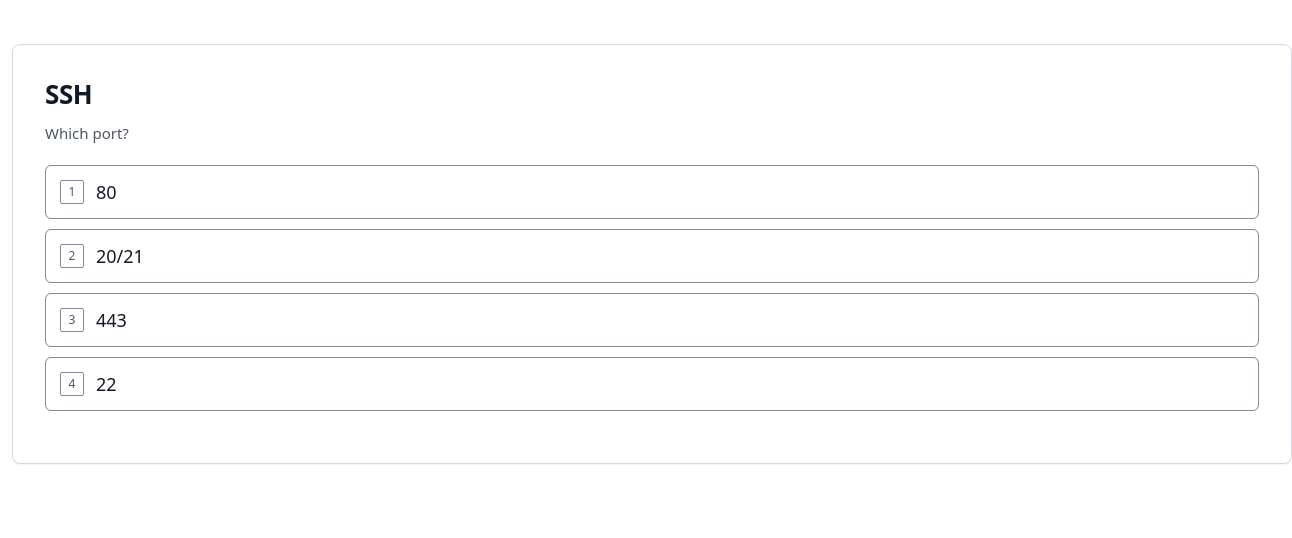
it: RecallPlayer, a choice of answers › waits for Continue after an incorrect answer too, and states the correct answer
The image size is (1292, 538).
Step 1. Click the button "1 80" → (72, 192), box [45,165,1259,219]
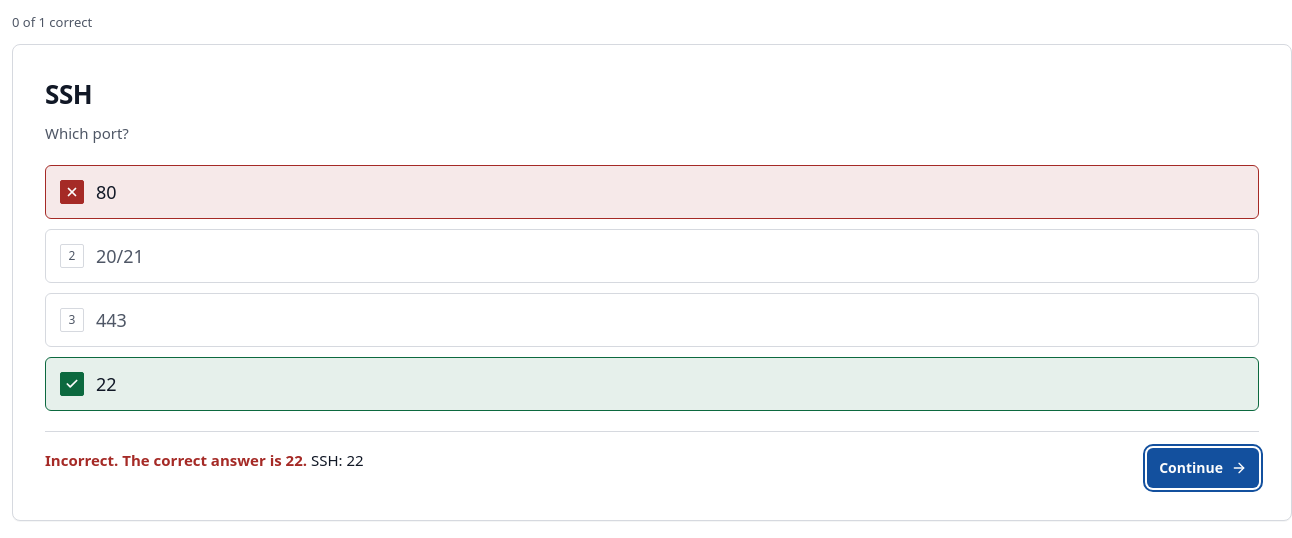
Expected: the text "Incorrect. The correct answer is 22." is shown, [45,450,307,470]
